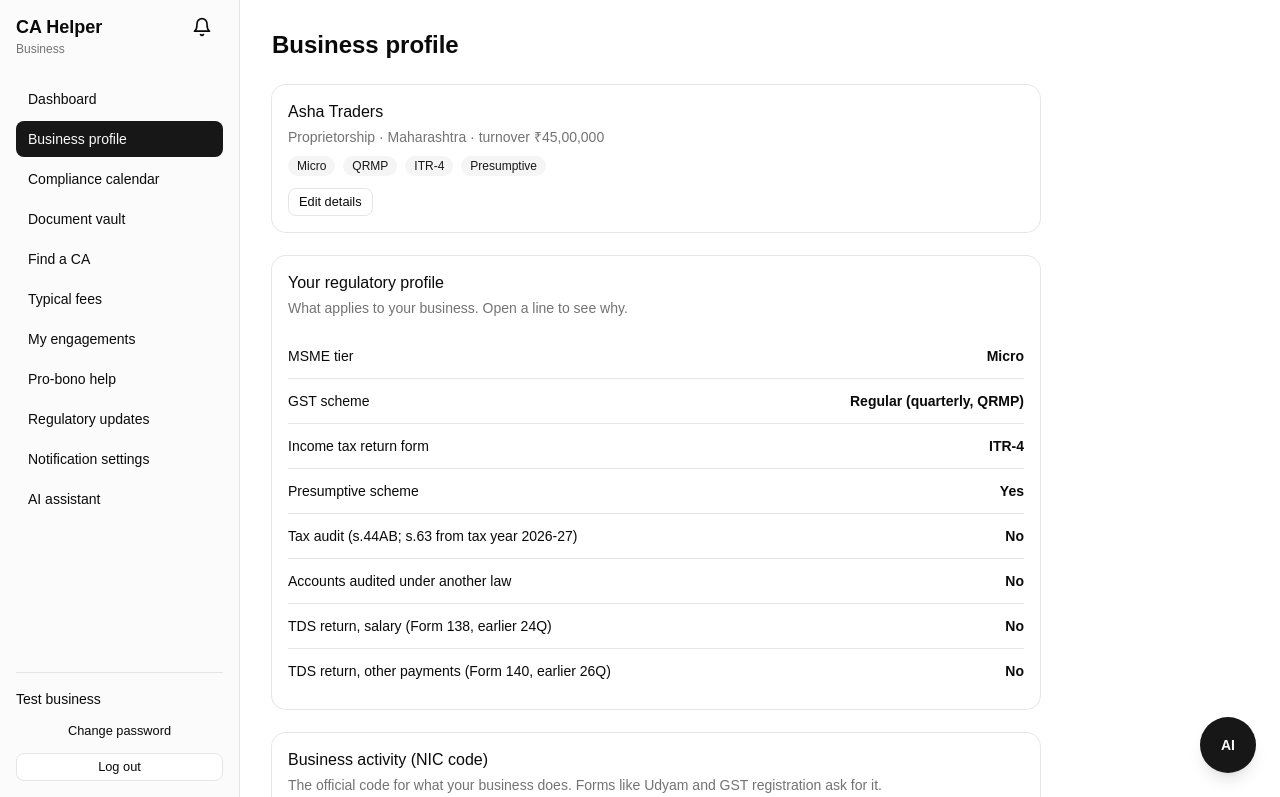
Test: business profile page › edits the details and shows what changed
Click the button "Edit details": point(330, 202) [288,188,373,216]
(page scrolled)
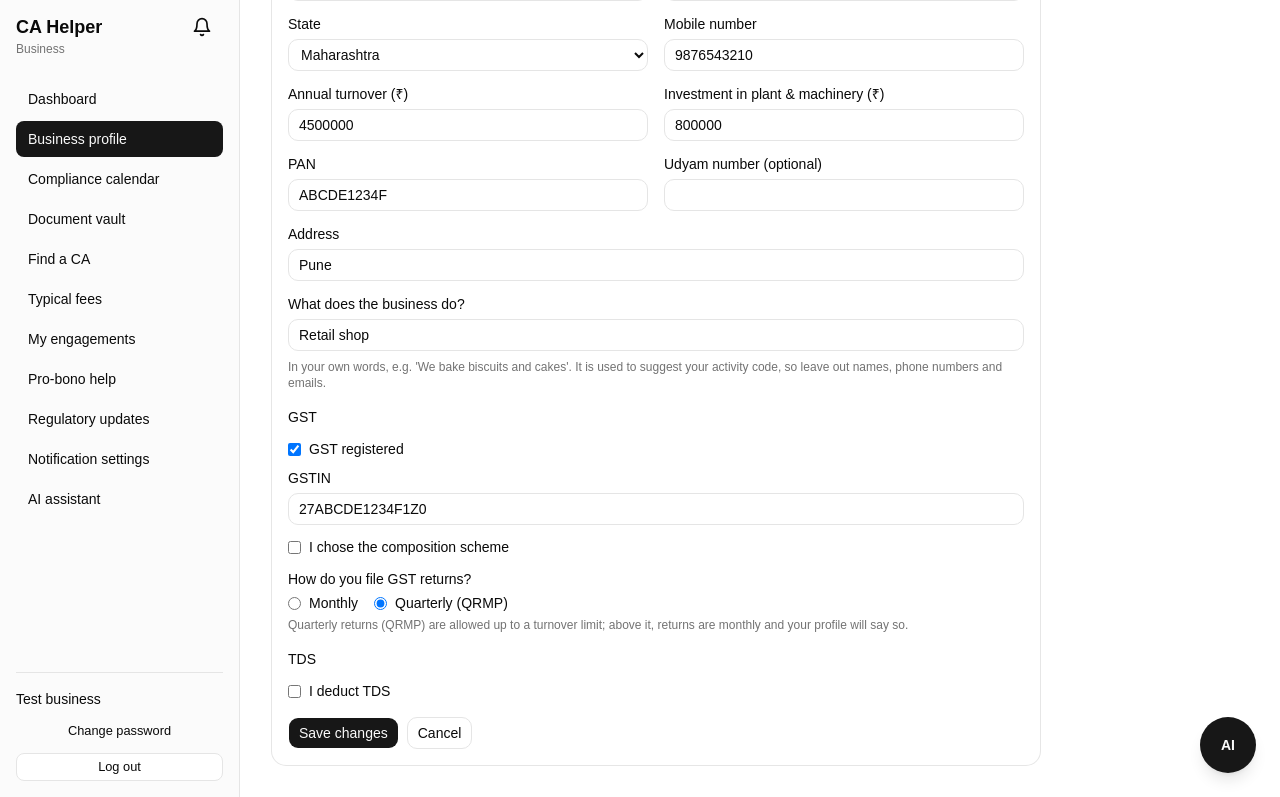
Result: the dropdown labelled "State" shows "Maharashtra" at [288,39,648,71]
Click the radio button labelled "Monthly": point(294, 603) [288,596,301,610]
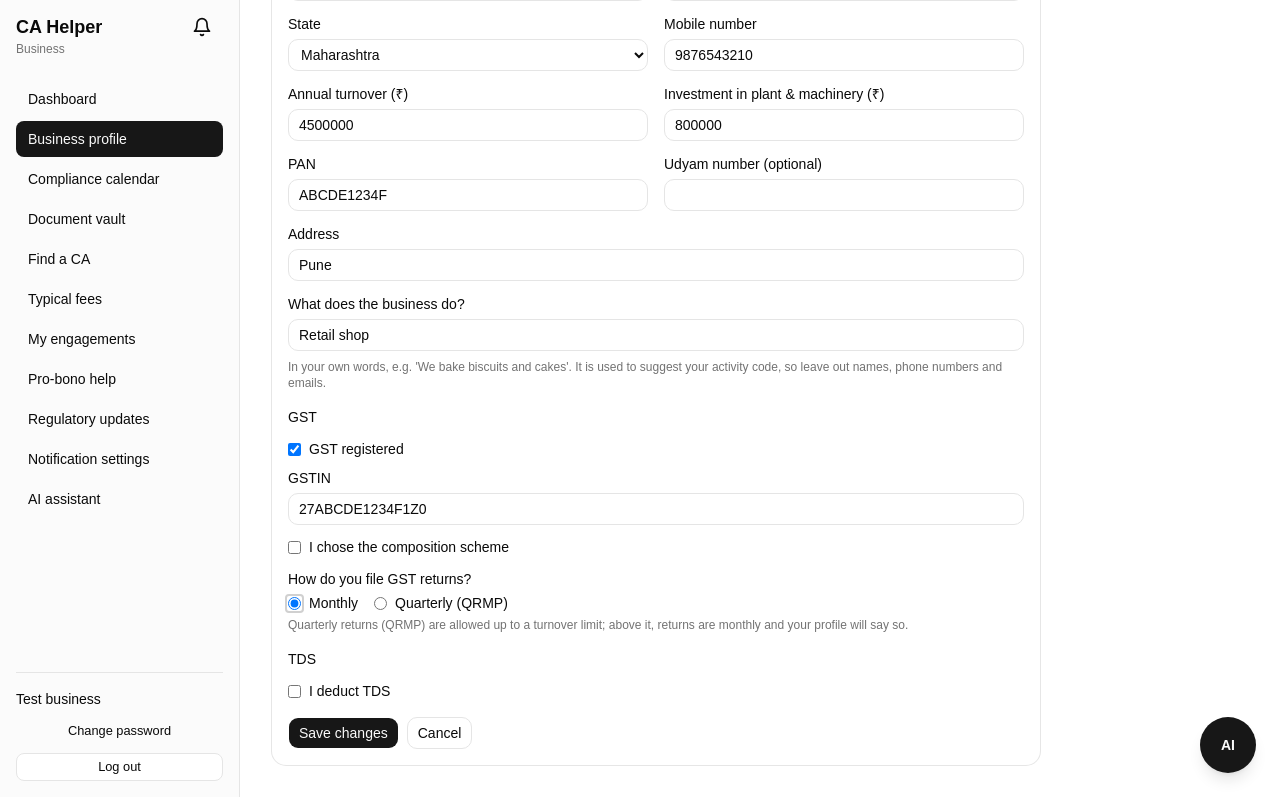
Click the button "Save changes": point(343, 733) [288,717,399,749]
(page scrolled)
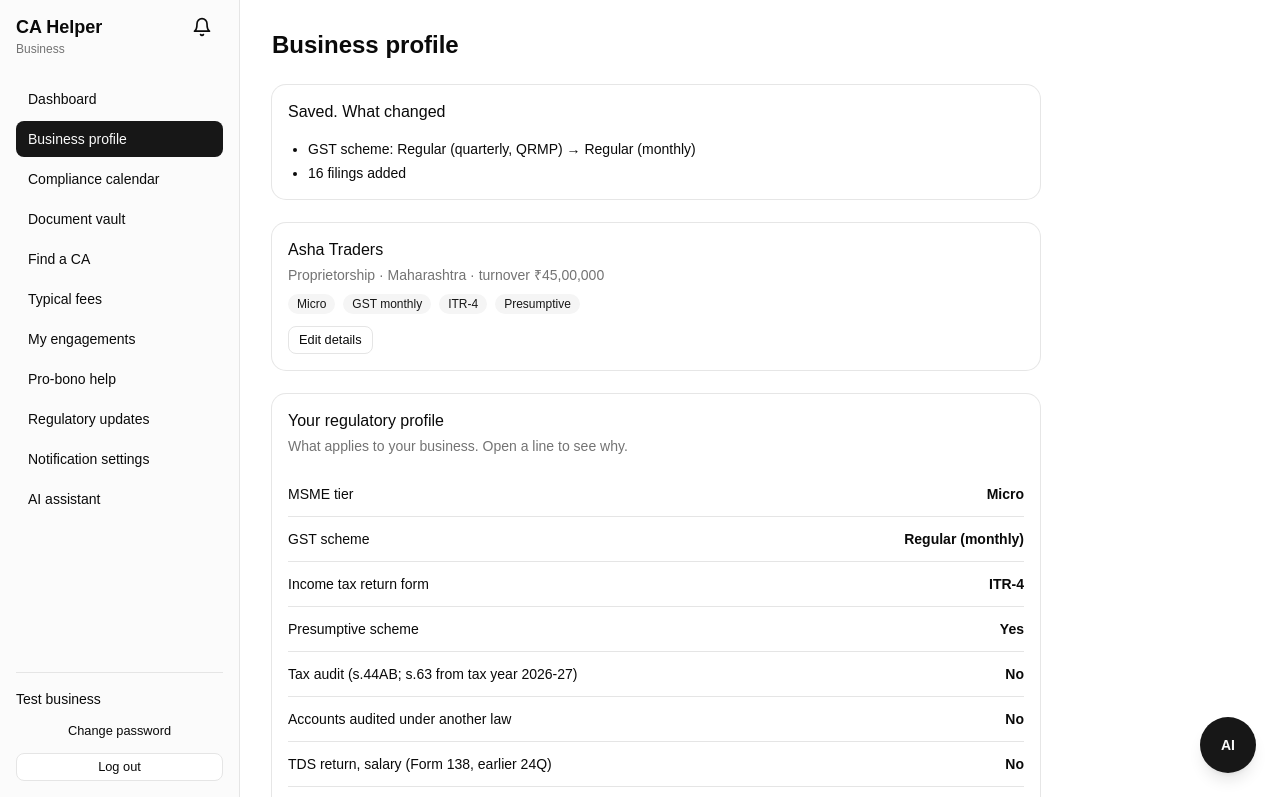
Result: the message shows "GST scheme: Regular (quarterly, QRMP) → Regular (monthly)" at [272,85,1040,199]
Result: the message shows "16 filings added" at [308,165,406,181]
